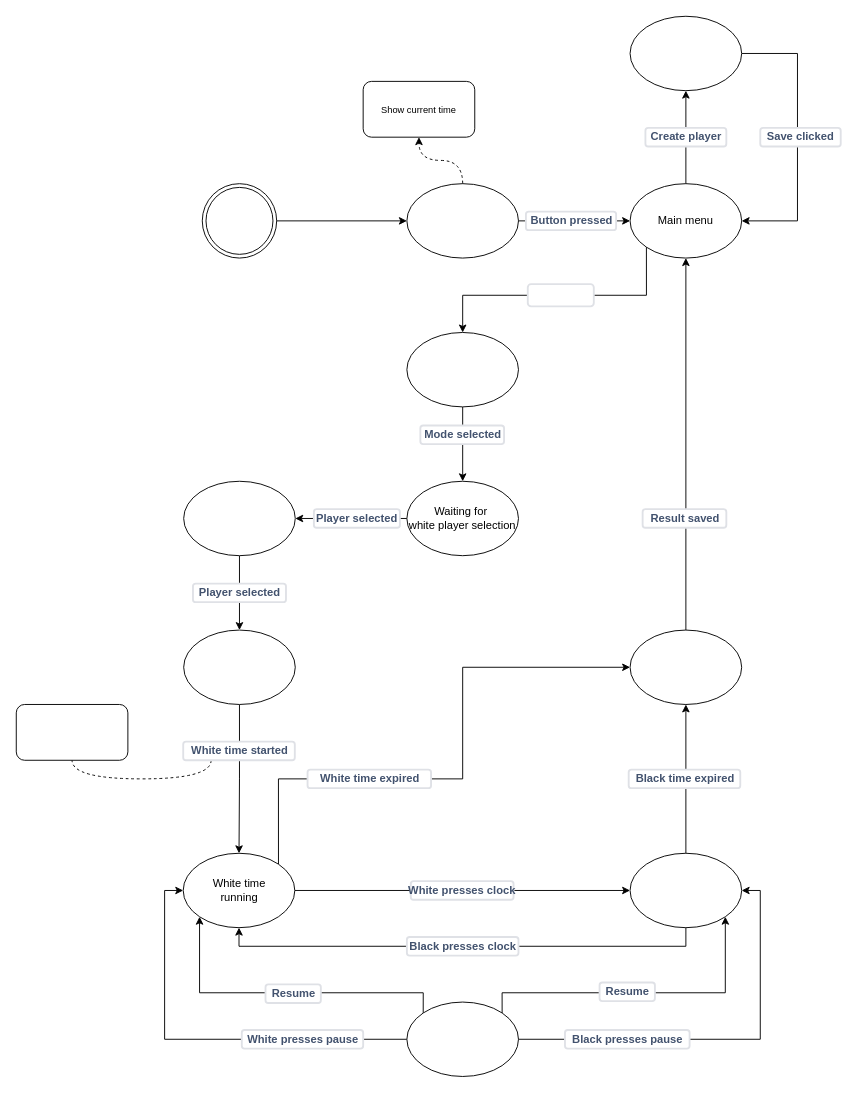
Image size: 857x1093. Some labels were removed from this diagram. Each missing label, with the centre of its shape:
Black time running: (685,890)
Enter first and last name: (685,53)
IDLE: (462,220)
Pause: (462,1038)
Play game: (560,295)
Save game result: (685,666)
The lever must be adjusted so that the "elevation" is on the white side.: (71,732)
Waiting for black player selection: (239,518)
Waiting for mode selection: (462,369)
Waiting for white time to start: (239,666)
